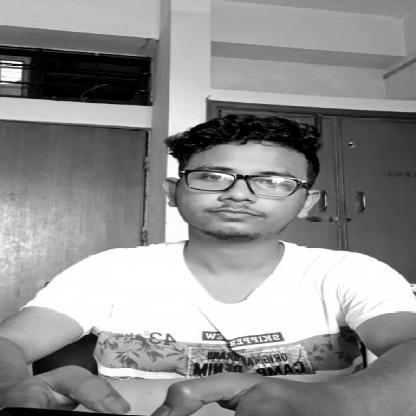Normal: (171, 118, 308, 245)
